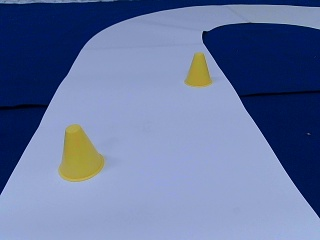cone: (57, 125, 105, 180), (184, 53, 212, 86)
